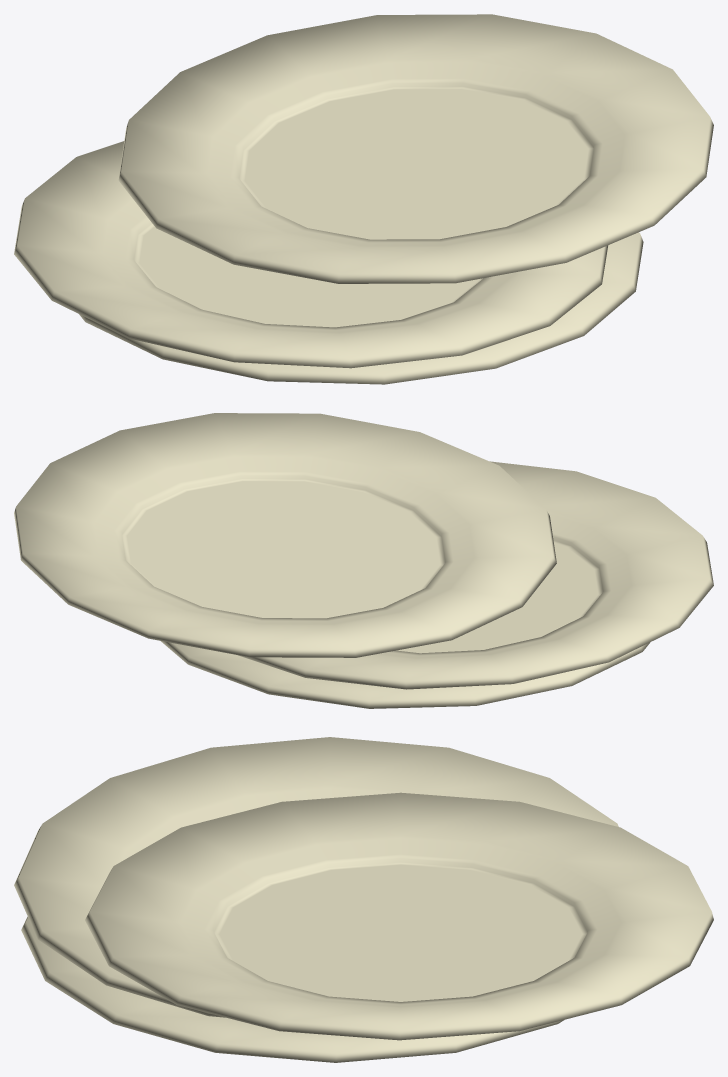
File: Plates.glb
The picture shows the model from 3 angles, top to bottom: view 1: azimuth 30°, elevation 25°; view 2: azimuth 150°, elevation 25°; view 3: azimuth 270°, elevation 25°; orthographic projection. The views are drawn at different scales.
Parts seen in each view (by area): view 1: Plate.002, Plate.001, Plate; view 2: Plate.002, Plate.001, Plate; view 3: Plate.002, Plate.001, Plate.
Boxes of the visible parts, bbox=[...] form: Plate.002: bbox=[118, 14, 713, 283]; Plate.001: bbox=[14, 141, 608, 368]; Plate: bbox=[79, 232, 643, 384]; Plate.002: bbox=[14, 413, 556, 657]; Plate.001: bbox=[237, 461, 713, 689]; Plate: bbox=[161, 641, 650, 708]; Plate.002: bbox=[85, 792, 713, 1040]; Plate.001: bbox=[14, 737, 618, 1017]; Plate: bbox=[21, 916, 563, 1062].
Bounding box in the file's own units: 0.4108 × 0.0634 × 0.3614.
